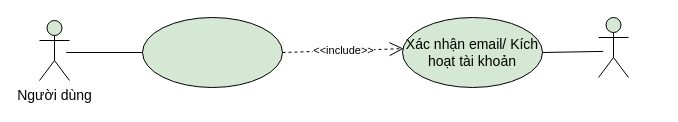
Some shapes in this 678 by 122 pixel diagram are drawn without their labels. The shapes that lost their labels are listed below. From the top down, each one's centre as x and y in pixels, then its label:
pixel 212 52: Đăng ký tài khoản
pixel 613 47: Hệ thống email
